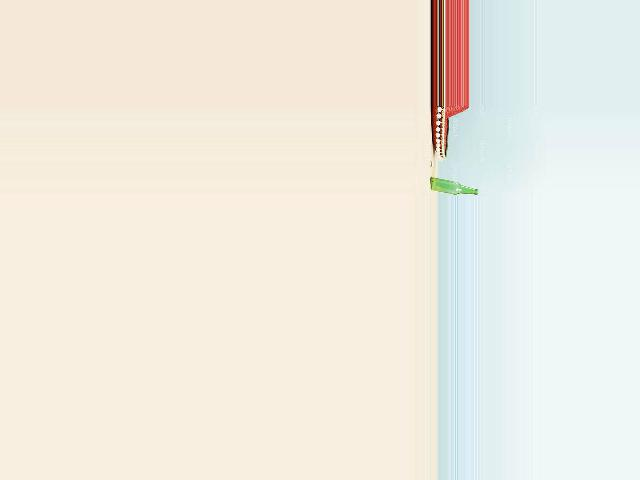beer: (429, 177, 478, 194)
